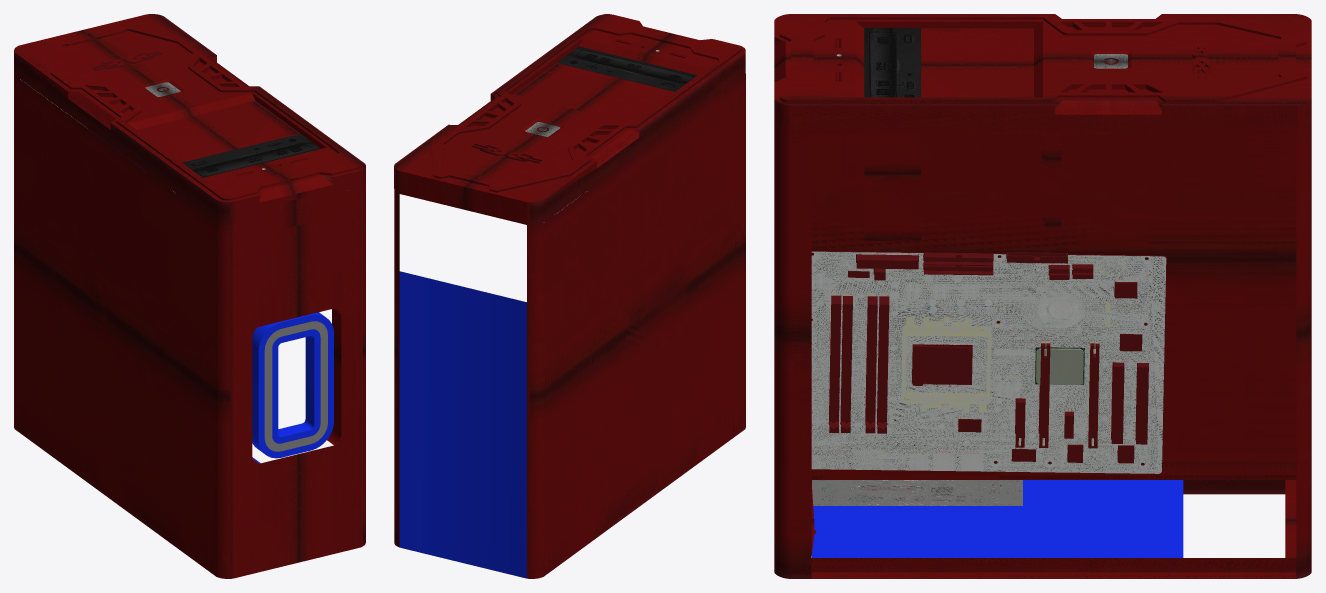
Rendered from Case.fbx.
3 renders of one model, left to right at view 1: azimuth 30°, elevation 25°; view 2: azimuth 150°, elevation 25°; view 3: azimuth 270°, elevation 25°, orthographic. The views are drawn at different scales.
Parts seen in each view (by area): view 1: PC_Case.001, PC_Case.015, Rectangle001, PC_Case.017, PC_Case.004, PC_Case.016; view 2: PC_Case.001, PC_Case.020, PC_Case.015, PC_Case.017, PC_Case.004, PC_Case.016; view 3: PC_Case.001, PC_Case.011, PC_Case.015, PC_Case.013, mounts, drive_mount, PC_Case.017, PC_Case.005, PC_Case.004, PC_Case.007.
Part boxes in pixels (bbox=[...]): PC_Case.001: bbox=[14, 51, 365, 578]; PC_Case.015: bbox=[14, 14, 365, 202]; Rectangle001: bbox=[252, 312, 333, 458]; PC_Case.017: bbox=[137, 101, 299, 162]; PC_Case.004: bbox=[182, 134, 320, 177]; PC_Case.016: bbox=[91, 51, 161, 70]; PC_Case.001: bbox=[394, 44, 745, 578]; PC_Case.020: bbox=[399, 271, 526, 578]; PC_Case.015: bbox=[394, 14, 745, 202]; PC_Case.017: bbox=[513, 63, 673, 122]; PC_Case.004: bbox=[557, 46, 697, 91]; PC_Case.016: bbox=[471, 143, 542, 163]; PC_Case.001: bbox=[774, 37, 1311, 578]; PC_Case.011: bbox=[811, 251, 1166, 473]; PC_Case.015: bbox=[774, 14, 1311, 105]; PC_Case.013: bbox=[812, 480, 1183, 557]; mounts: bbox=[829, 252, 1162, 473]; drive_mount: bbox=[864, 134, 1061, 240]; PC_Case.017: bbox=[922, 28, 1033, 97]; PC_Case.005: bbox=[812, 480, 1022, 505]; PC_Case.004: bbox=[864, 28, 920, 97]; PC_Case.007: bbox=[1036, 348, 1083, 385].
Size of the model in its own units: 323 by 785 by 803.
Materials: 14 (12 with a texture image).
